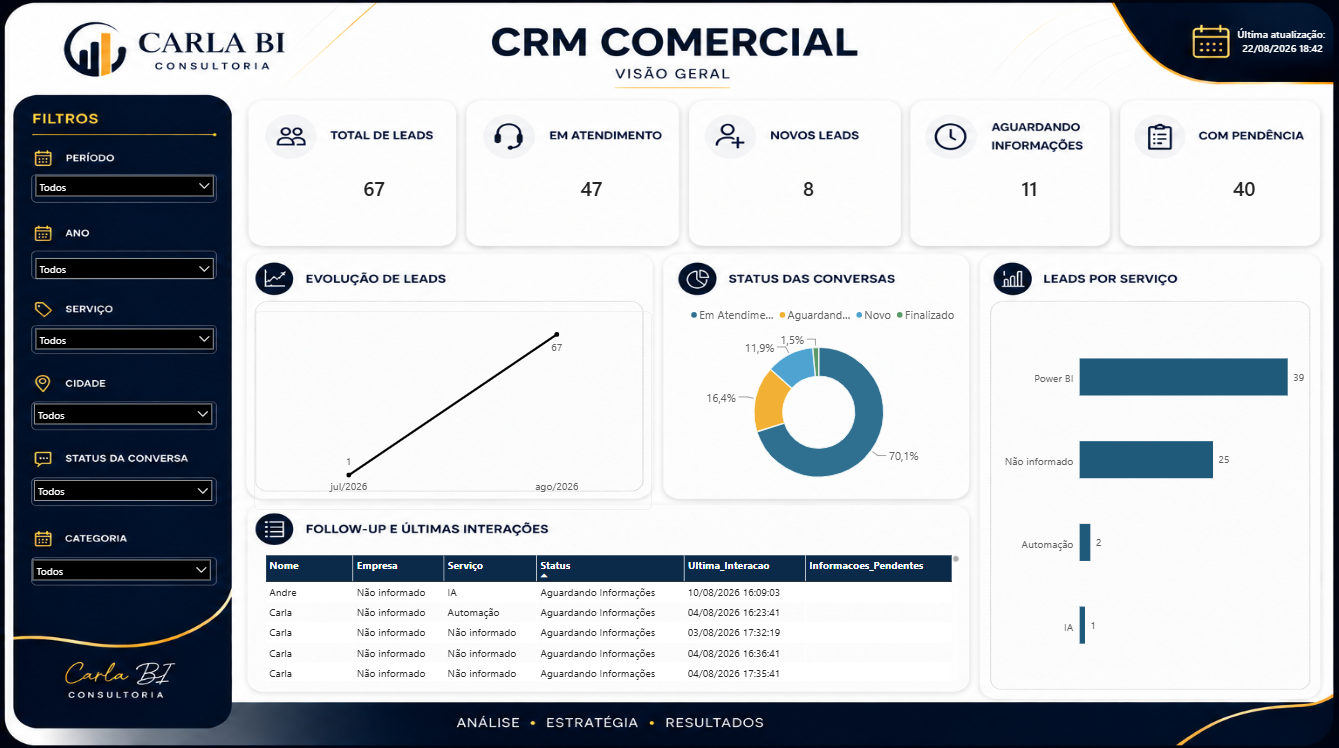

Layout of this report page (visuals, bound fields, positions):
{"tool":"powerbi","page":{"name":"Visão Geral CRM","canvas":[1920,1080],"ordinal":0},"visuals":[{"type":"card","fields":{"Values":["Medidas_CRM.Total Leads"]},"box":[450.9,224.3,171.8,102.6],"z":0},{"type":"card","fields":{"Values":["Medidas_CRM.Leads Em Atendimento"]},"box":[763.5,224.3,171.8,102.6],"z":1000},{"type":"card","fields":{"Values":["Medidas_CRM.Leads Novos"]},"box":[1071.3,224.3,174.2,102.6],"z":2000},{"type":"card","fields":{"Values":["Medidas_CRM.Leads Aguardando"]},"box":[1391,224.3,171.8,102.6],"z":3000},{"type":"card","fields":{"Values":["Medidas_CRM.Leads Com Pendencia"]},"box":[1696.4,224.3,171.8,102.6],"z":4000},{"type":"lineChart","fields":{"Category":["Calendario.MesAno"],"Y":["Medidas_CRM.Leads Acumulados"]},"box":[365,448.6,570.2,283.9],"z":5000},{"type":"donutChart","fields":{"Category":["fAtendimentos.Status_Conversa"],"Y":["Medidas_CRM.Total Leads"]},"box":[959.1,422.3,431.9,310.2],"z":6000},{"type":"barChart","fields":{"Category":["fAtendimentos.Serviço"],"Y":["Medidas_CRM.Total Leads"]},"box":[1415,447.5,470,547.5],"z":7000},{"type":"tableEx","fields":{"Values":["fAtendimentos.Nome","fAtendimentos.Empresa","fAtendimentos.Serviço","fAtendimentos.Status","fAtendimentos.Ultima_Interacao","fAtendimentos.Informacoes_Pendentes"]},"box":[365,785,1025.9,210],"z":8000},{"type":"slicer","fields":{"Values":["Calendario.Mes"]},"box":[47.5,250,265,50],"z":9000},{"type":"slicer","fields":{"Values":["Calendario.Date.Variation.Hierarquia de datas.Ano"]},"box":[47.5,367.5,265,50],"z":9001},{"type":"slicer","fields":{"Values":["fAtendimentos.Serviço"]},"box":[47.5,467.5,265,50],"z":9002},{"type":"slicer","fields":{"Values":["fAtendimentos.cidade"]},"box":[45,575,265,50],"z":9003},{"type":"slicer","fields":{"Values":["fAtendimentos.Status_Conversa"]},"box":[45,685,265,50],"z":9004},{"type":"slicer","fields":{"Values":["fAtendimentos.Categoria"]},"box":[42.5,800,265,50],"z":9005},{"type":"card","fields":{"Values":["Medidas_CRM.Última Atualização"]},"box":[1757.5,22.5,162.5,82.5],"z":9006}]}

Visuals, with their boxes in screenshot pixels (x1, y1, x2, y2), scaled from the page's 1920x1080 canvas onto the 1339x748 screenshot:
card - Medidas_CRM.Total Leads: rect(314, 155, 434, 226)
card - Medidas_CRM.Leads Em Atendimento: rect(532, 155, 652, 226)
card - Medidas_CRM.Leads Novos: rect(747, 155, 869, 226)
card - Medidas_CRM.Leads Aguardando: rect(970, 155, 1090, 226)
card - Medidas_CRM.Leads Com Pendencia: rect(1183, 155, 1303, 226)
lineChart - Calendario.MesAno x Medidas_CRM.Leads Acumulados: rect(255, 311, 652, 507)
donutChart - fAtendimentos.Status_Conversa x Medidas_CRM.Total Leads: rect(669, 292, 970, 507)
barChart - fAtendimentos.Serviço x Medidas_CRM.Total Leads: rect(987, 310, 1315, 689)
tableEx - fAtendimentos.Nome x fAtendimentos.Empresa: rect(255, 544, 970, 689)
slicer - Calendario.Mes: rect(33, 173, 218, 208)
slicer - Calendario.Date.Variation.Hierarquia de datas.Ano: rect(33, 255, 218, 289)
slicer - fAtendimentos.Serviço: rect(33, 324, 218, 358)
slicer - fAtendimentos.cidade: rect(31, 398, 216, 433)
slicer - fAtendimentos.Status_Conversa: rect(31, 474, 216, 509)
slicer - fAtendimentos.Categoria: rect(30, 554, 214, 589)
card - Medidas_CRM.Última Atualização: rect(1226, 16, 1338, 73)
